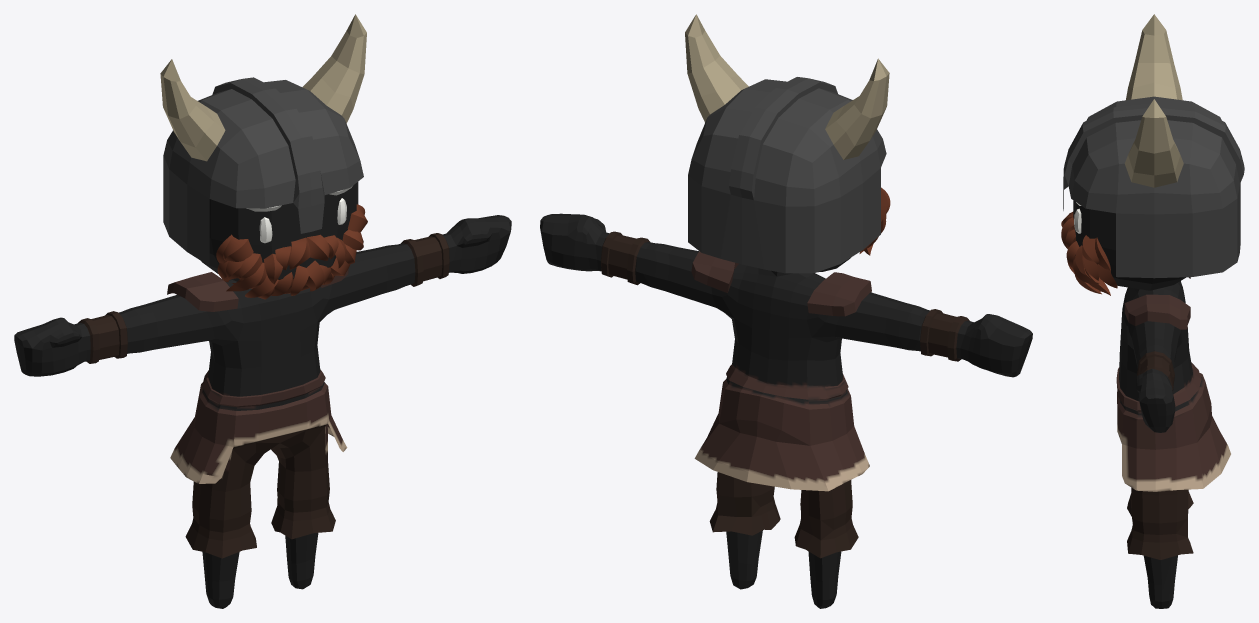
File: VikingHelmet.fbx
The picture shows the model from 3 angles, left to right: view 1: azimuth 30°, elevation 25°; view 2: azimuth 150°, elevation 25°; view 3: azimuth 270°, elevation 25°; orthographic projection. The views are drawn at different scales.
Parts seen in each view (by area): view 1: Body; view 2: Body; view 3: Body.
Boxes of the visible parts, x1=… form: Body: x1=14, y1=14, x2=511, y2=608; Body: x1=540, y1=14, x2=1032, y2=608; Body: x1=1061, y1=14, x2=1244, y2=608.
Size of the model in its own units: 324 by 355 by 111.
Materials: 1 (1 with a texture image).
